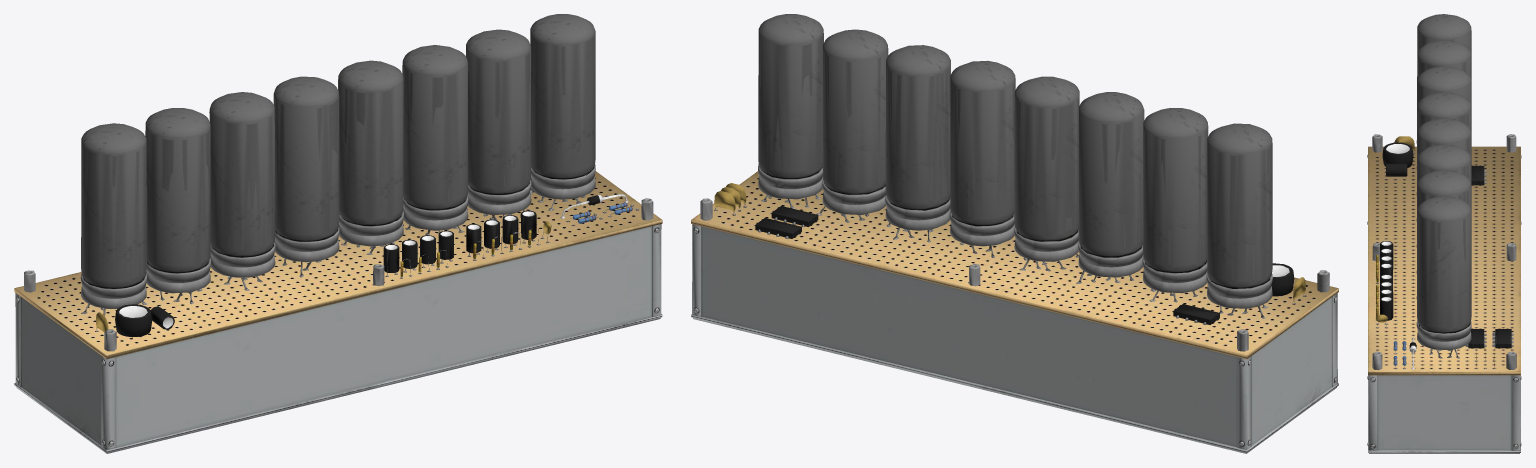
Rendered from divergence-transformed.glb.
3 views of the same model, side by side, from view 1: azimuth 30°, elevation 25°; view 2: azimuth 150°, elevation 25°; view 3: azimuth 270°, elevation 25° (orthographic). The views are drawn at different scales.
Size of the model in its own units: 0.3548 by 0.1713 by 0.1023.
Materials: 8 (8 with a texture image).
